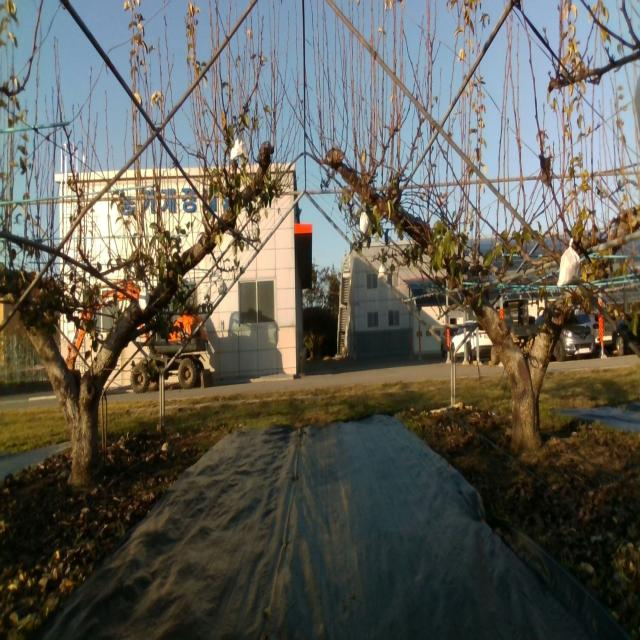pearbags: (556, 240, 582, 290), (230, 134, 249, 161), (138, 280, 149, 310), (218, 274, 228, 294)
